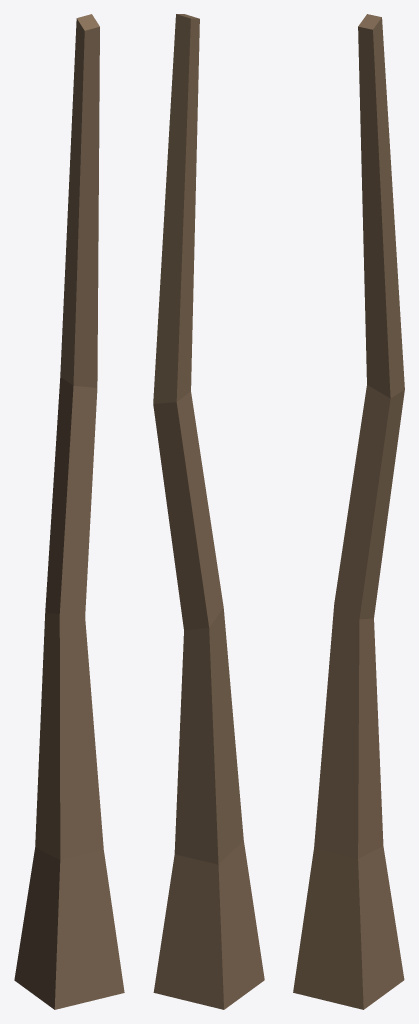
File: Trunk_3.fbx
3 renders of one model, left to right at view 1: azimuth 30°, elevation 25°; view 2: azimuth 150°, elevation 25°; view 3: azimuth 330°, elevation 25°, orthographic.
Visible parts, largest first — view 1: M_Trunk 3; view 2: M_Trunk 3; view 3: M_Trunk 3.
Part boxes in pixels (x1,y1,x2,y2): M_Trunk 3: (14, 14, 124, 1009); M_Trunk 3: (153, 14, 264, 1009); M_Trunk 3: (293, 14, 404, 1009).
Bounding box in the file's own units: 13.8 × 181 × 13.95.
1 material, 1 textured.
